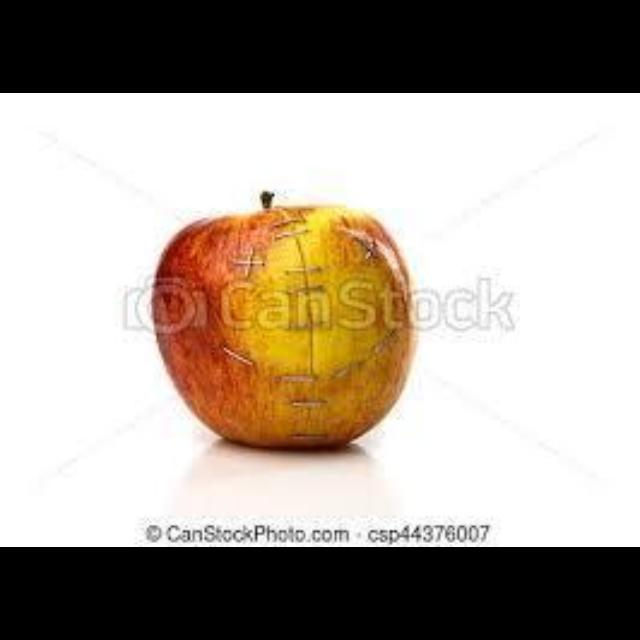apple: (149, 192, 414, 447)
